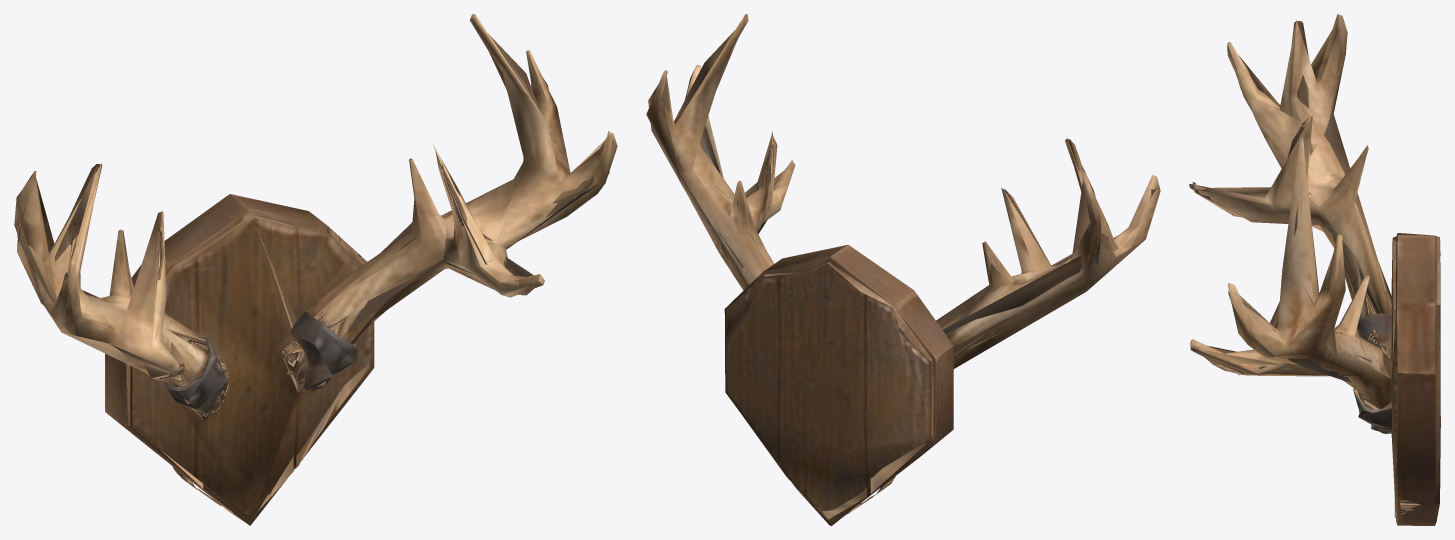
3 views of the same model, side by side, from view 1: azimuth 30°, elevation 25°; view 2: azimuth 150°, elevation 25°; view 3: azimuth 270°, elevation 25° (orthographic). The views are drawn at different scales.
Parts seen in each view (by area): view 1: geometry_0; view 2: geometry_0; view 3: geometry_0.
Boxes of the visible parts, x1,y1,x2,y2 form: geometry_0: (14,14,617,525); geometry_0: (646,14,1160,525); geometry_0: (1189,14,1440,525).
Size of the model in its own units: 0.8436 by 0.7414 by 0.3637.
1 material, 1 textured.
